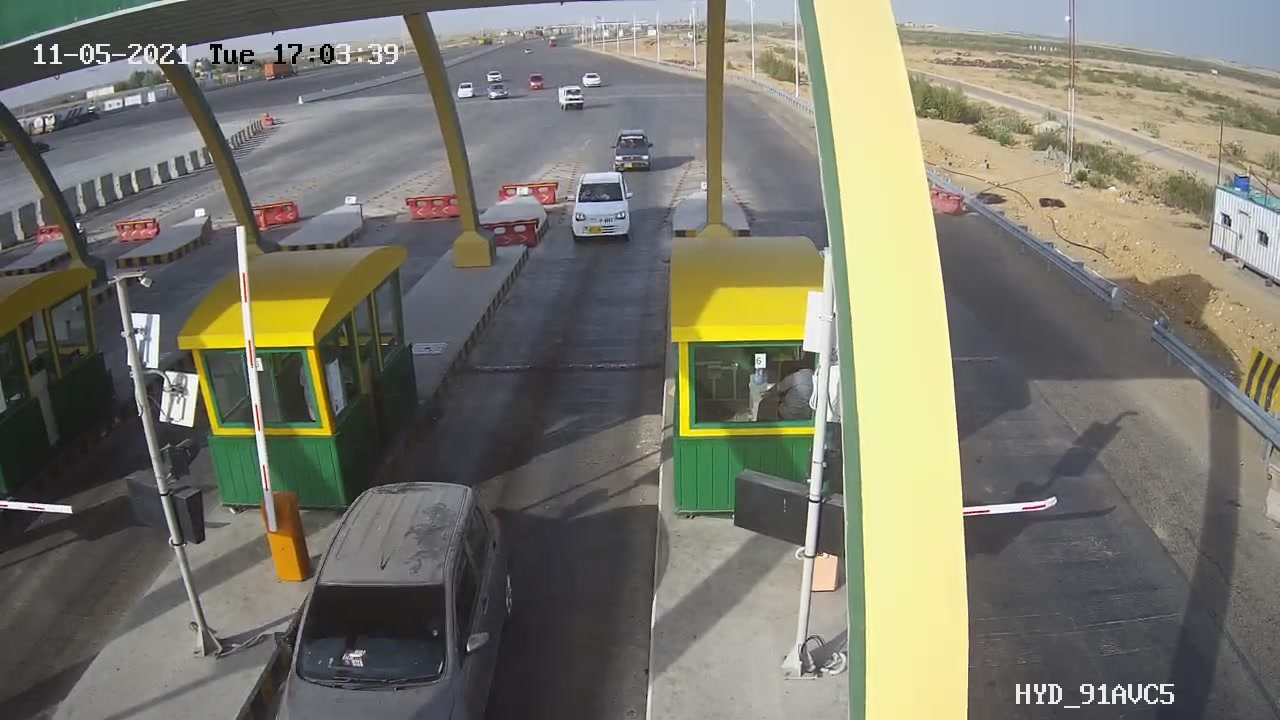F1: (559, 162, 642, 262)
